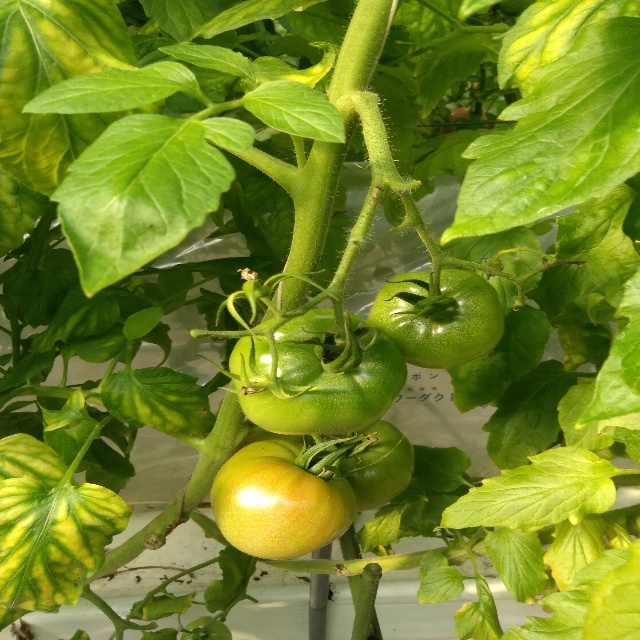b_green: (228, 306, 408, 435), (261, 420, 414, 511), (366, 269, 505, 369), (180, 616, 232, 640)
b_half_ripened: (211, 439, 357, 560)
